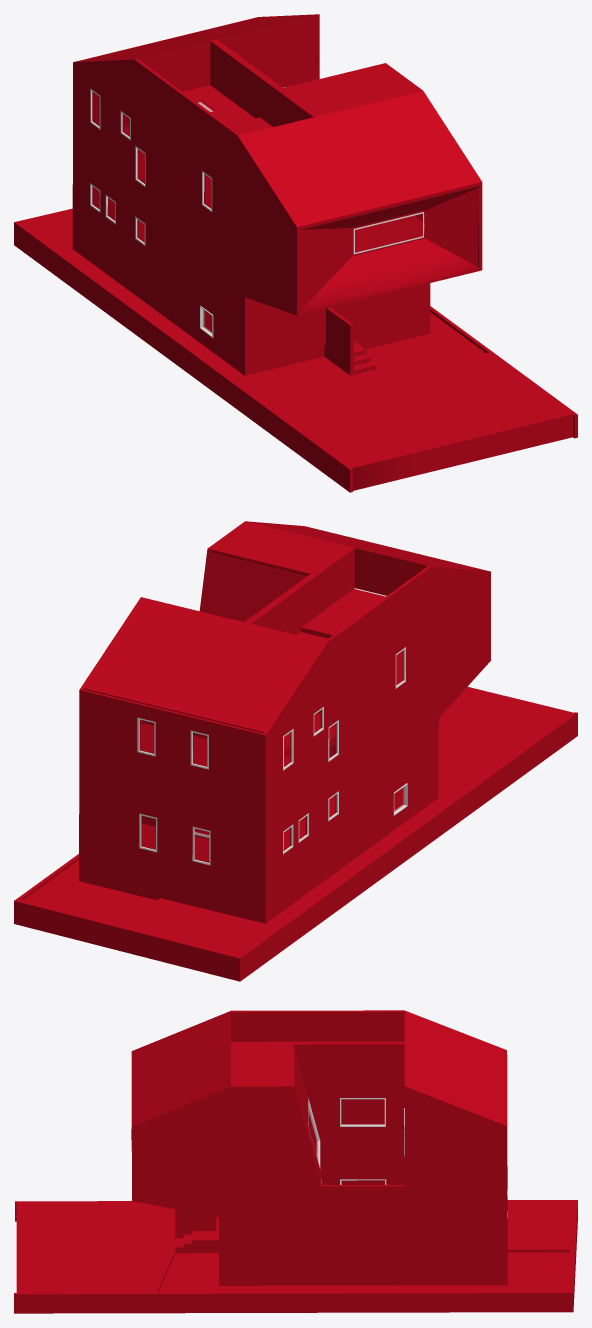
The model's file is asset.glb.
3 renders of one model, top to bottom at view 1: azimuth 30°, elevation 25°; view 2: azimuth 150°, elevation 25°; view 3: azimuth 270°, elevation 25°, orthographic. The views are drawn at different scales.
Visible parts, largest first — view 1: 3D_FACADE_BLACK, 3D_FIRST FLOOR, 3D_FACADE_REFLECTIVE, 3D_SURROUNDING CONTEXT, 3D_WALL, 3D_FLOOR, 3D_WINDOW FRAMES, 3D_TURF, 3D_FACADE_REFLECTIVE.001, 3d_Glass, Windows frames, 3D_FACADE_WHITE; view 2: 3D_FACADE_BLACK, 3D_FIRST FLOOR, 3D_SURROUNDING CONTEXT, 3D_FACADE_WHITE, 3D_TURF, 3D_FLOOR, 3D_WINDOW FRAMES, 3d_Glass, Windows frames, 3D_WALL; view 3: 3D_FACADE_BLACK, 3D_FIRST FLOOR, 3D_SURROUNDING CONTEXT, 3D_FACADE_WHITE, 3D_TURF, 3d_Glass, Windows frames.
Part boxes in pixels (x1,y1,x2,y2): 3D_FACADE_BLACK: (72,14,482,363); 3D_FIRST FLOOR: (31,212,572,490); 3D_FACADE_REFLECTIVE: (300,186,478,314); 3D_SURROUNDING CONTEXT: (14,208,577,492); 3D_WALL: (141,18,316,91); 3D_FLOOR: (124,85,470,262); 3D_WINDOW FRAMES: (210,44,309,126); 3D_TURF: (366,312,485,369); 3D_FACADE_REFLECTIVE.001: (425,187,478,266); 3d_Glass: (92,92,422,251); Windows frames: (90,87,425,337); 3D_FACADE_WHITE: (210,39,282,91); 3D_FACADE_BLACK: (79,521,490,911); 3D_FIRST FLOOR: (79,686,574,950); 3D_SURROUNDING CONTEXT: (14,712,577,981); 3D_FACADE_WHITE: (203,553,317,756); 3D_TURF: (24,860,156,924); 3D_FLOOR: (139,588,386,766); 3D_WINDOW FRAMES: (254,552,354,634); 3d_Glass: (140,650,403,862); Windows frames: (137,647,407,865); 3D_WALL: (142,551,424,839); 3D_FACADE_BLACK: (131,1010,507,1272); 3D_FIRST FLOOR: (16,1201,571,1292); 3D_SURROUNDING CONTEXT: (14,1200,577,1313); 3D_FACADE_WHITE: (293,1041,404,1184); 3D_TURF: (158,1252,569,1292); 3d_Glass: (309,1099,384,1184); Windows frames: (308,1098,507,1217).
Size of the model in its own units: 39.94 by 43.46 by 102.
